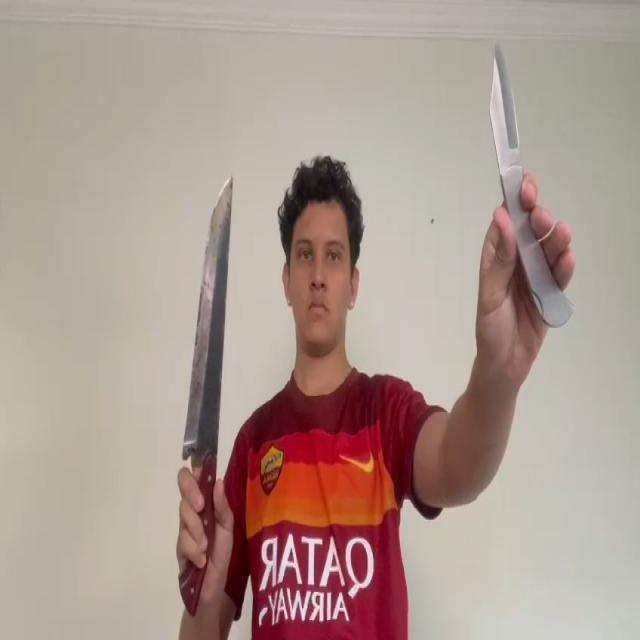knife: (182, 174, 234, 467), (488, 44, 521, 172)
